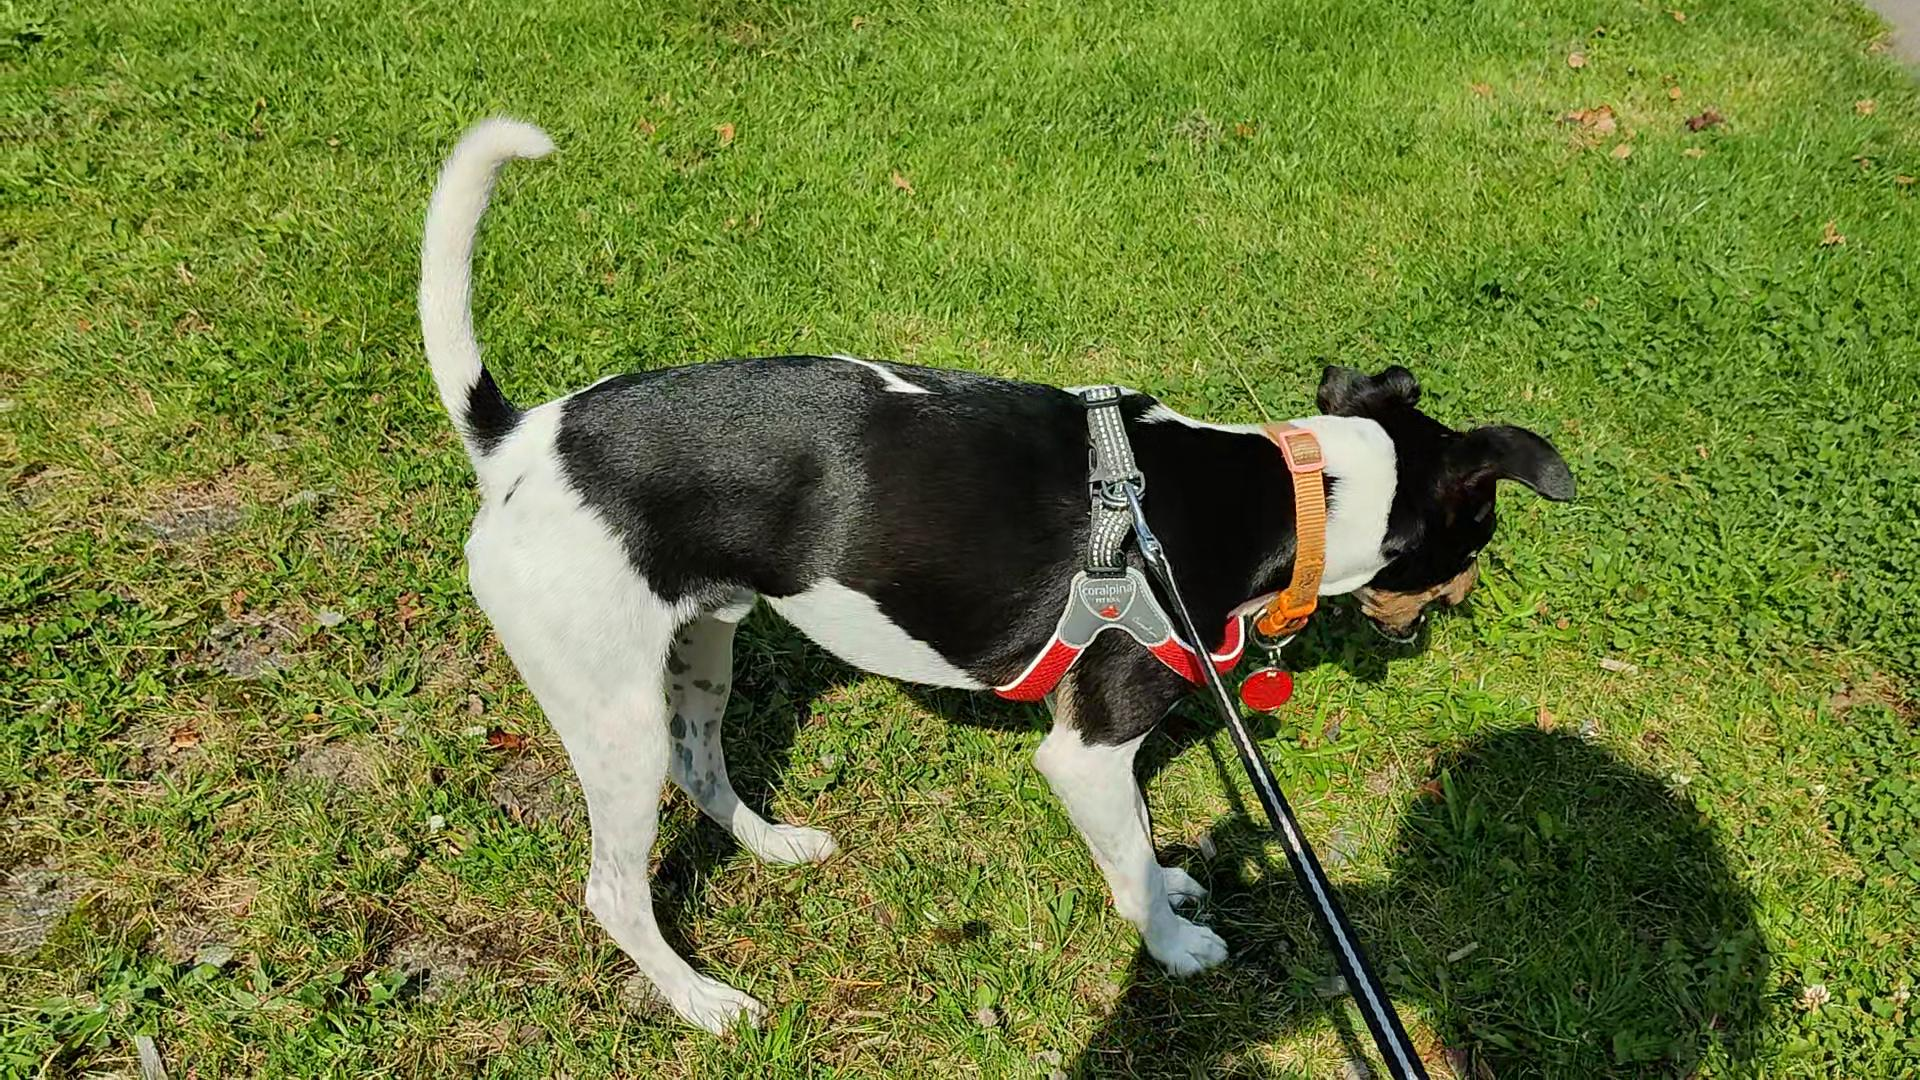Dog: (407, 105, 1578, 1039)
